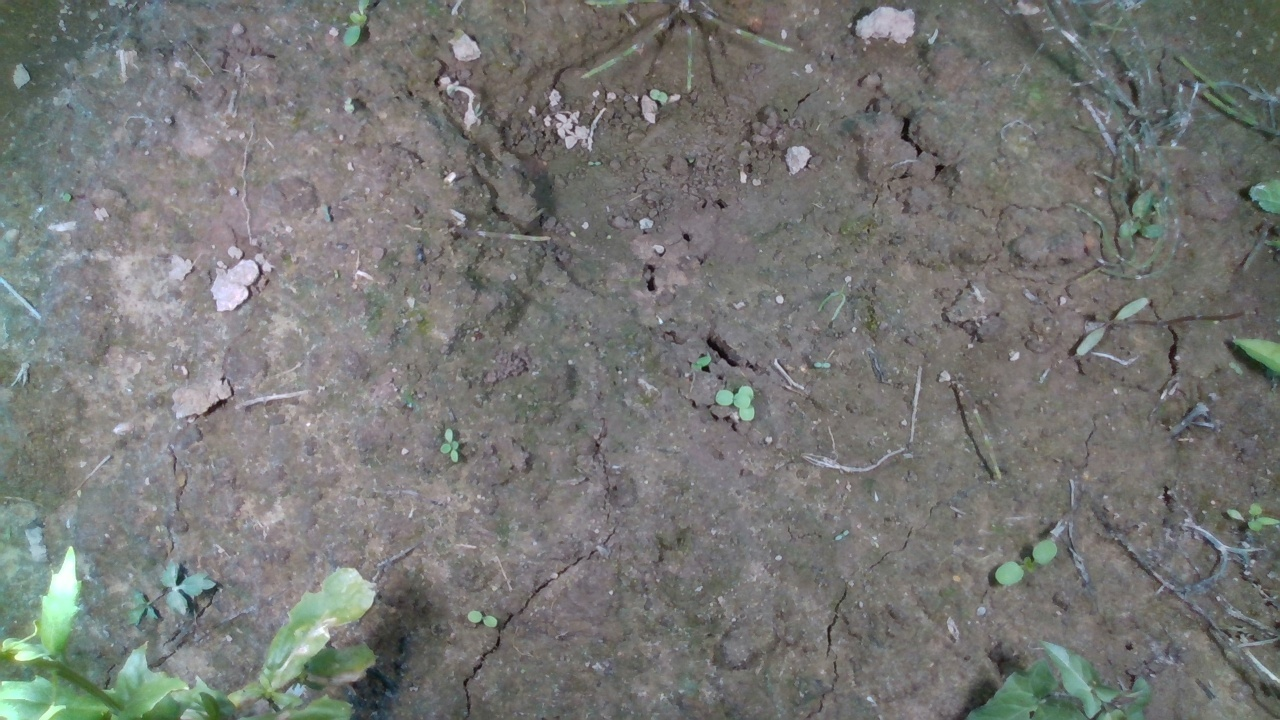weed: (1073, 297, 1152, 357), (994, 538, 1059, 587), (436, 427, 469, 471), (460, 602, 508, 632), (814, 355, 849, 374)
